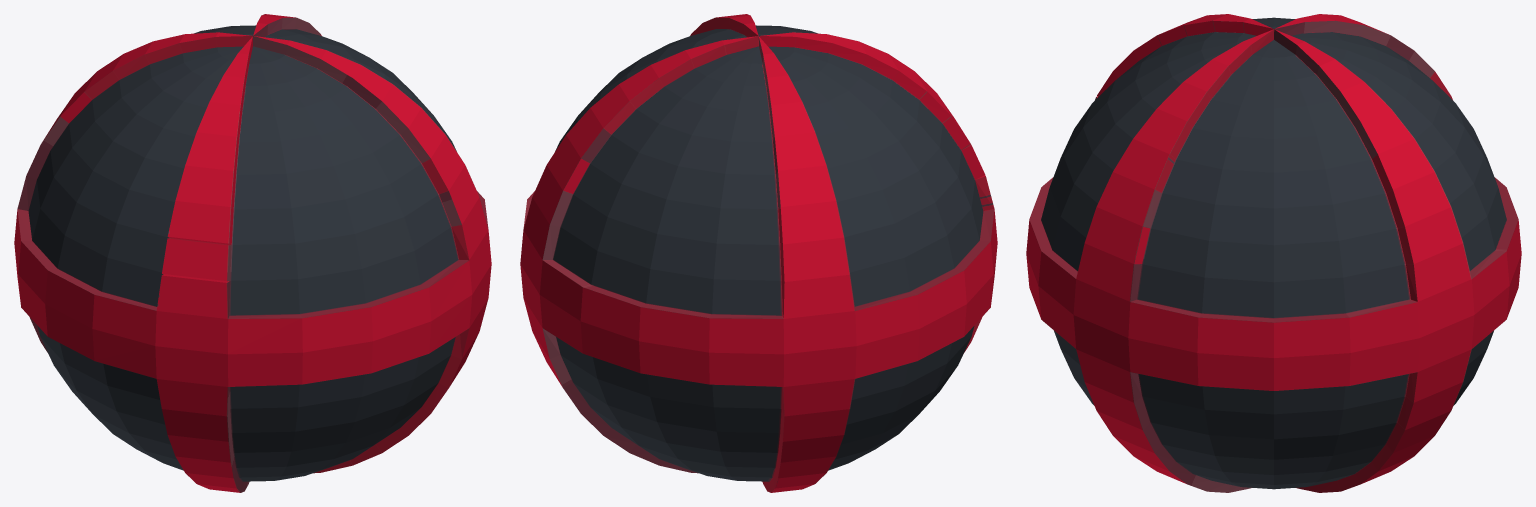
The model's file is enemyRef.fbx.
The picture shows the model from 3 angles, left to right: view 1: azimuth 30°, elevation 25°; view 2: azimuth 150°, elevation 25°; view 3: azimuth 270°, elevation 25°; orthographic projection. The views are drawn at different scales.
Visible parts, largest first — view 1: pSphere1; view 2: pSphere1; view 3: pSphere1.
Part boxes in pixels (bbox=[...]): pSphere1: bbox=[14, 14, 491, 492]; pSphere1: bbox=[520, 14, 997, 492]; pSphere1: bbox=[1026, 14, 1521, 492].
Bounding box in the file's own units: 1.05 × 1.05 × 1.05.
Materials: 1 (1 with a texture image).
